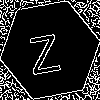Z: (25, 25, 62, 75)
